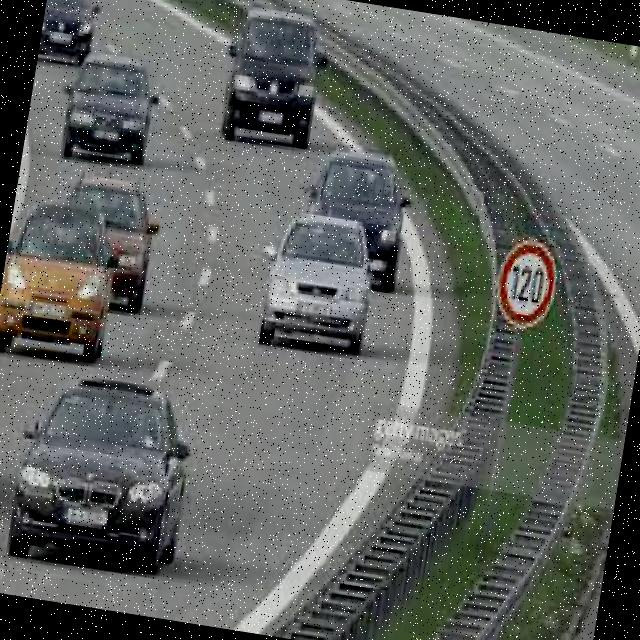Ograniczenie predkosci do 120: (492, 234, 563, 333)
